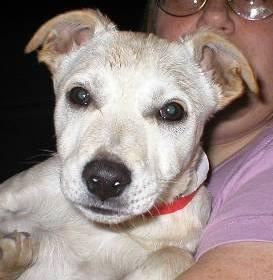dog: (0, 9, 259, 268)
